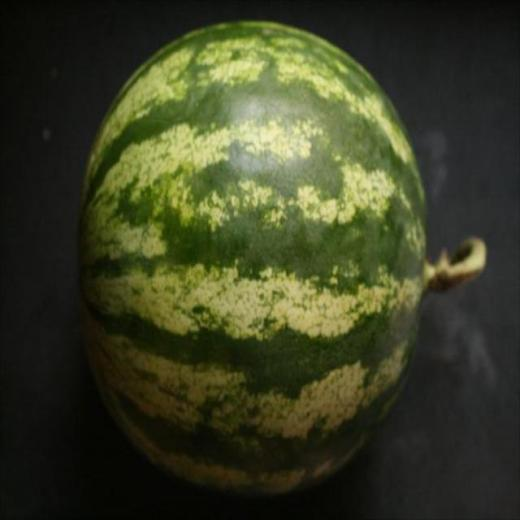Cherry: (77, 22, 484, 502)
